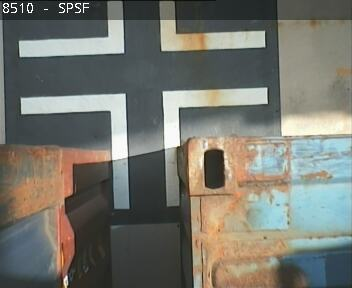groundmarker_1: (20, 86, 267, 209)
